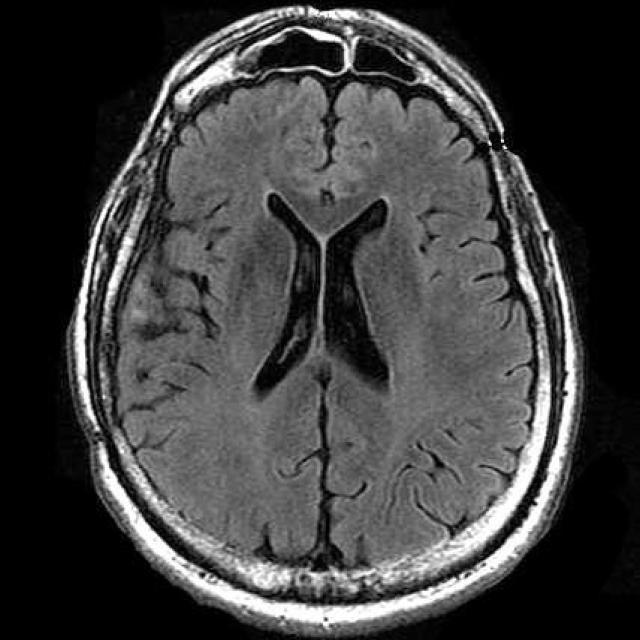notumor: (67, 8, 585, 638)
